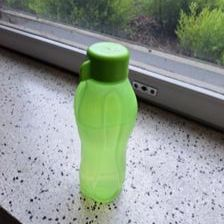bottle: (71, 41, 137, 203)
